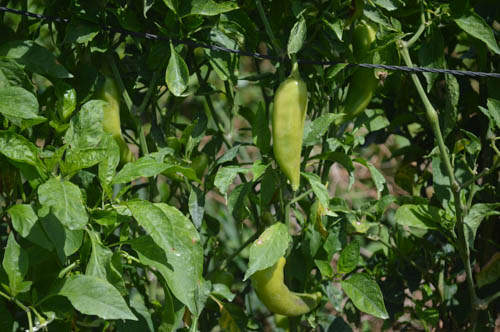ChiliPepper: (269, 80, 306, 188), (258, 262, 326, 313), (346, 37, 377, 121), (100, 83, 122, 140)
